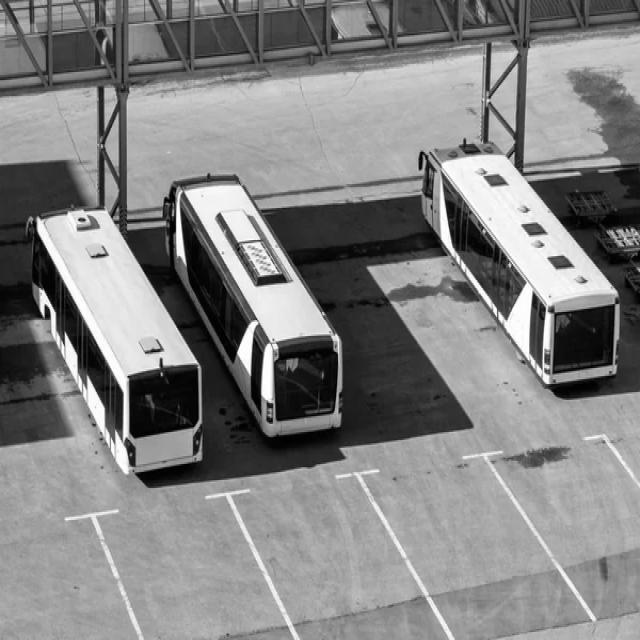Bus: (421, 144, 621, 389), (166, 174, 344, 440), (28, 211, 202, 474)
